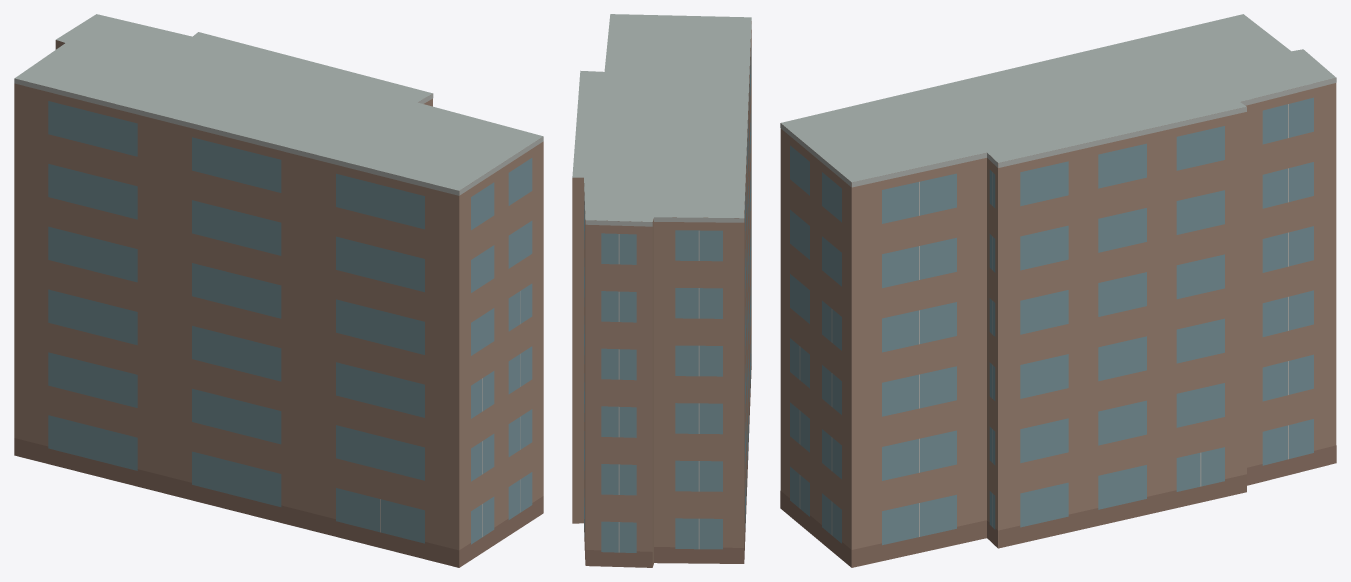
Rendered from survey-upis-32756734.glb.
3 renders of one model, left to right at view 1: azimuth 30°, elevation 25°; view 2: azimuth 150°, elevation 25°; view 3: azimuth 270°, elevation 25°, orthographic. The views are drawn at different scales.
Parts seen in each view (by area): view 1: survey-upis-32756734.tmp; view 2: survey-upis-32756734.tmp; view 3: survey-upis-32756734.tmp.
Boxes of the visible parts, x1,y1,x2,y2 form: survey-upis-32756734.tmp: (14,14,543,567); survey-upis-32756734.tmp: (572,14,751,567); survey-upis-32756734.tmp: (780,14,1336,567).
Bounding box in the file's own units: 17.16 × 18.3 × 23.93.
